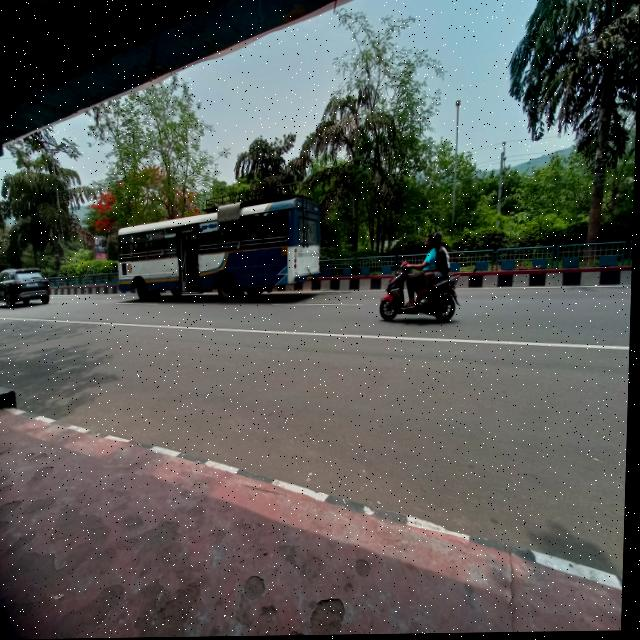bike: (373, 265, 466, 337)
bus: (95, 200, 340, 306)
car: (0, 250, 53, 317)
